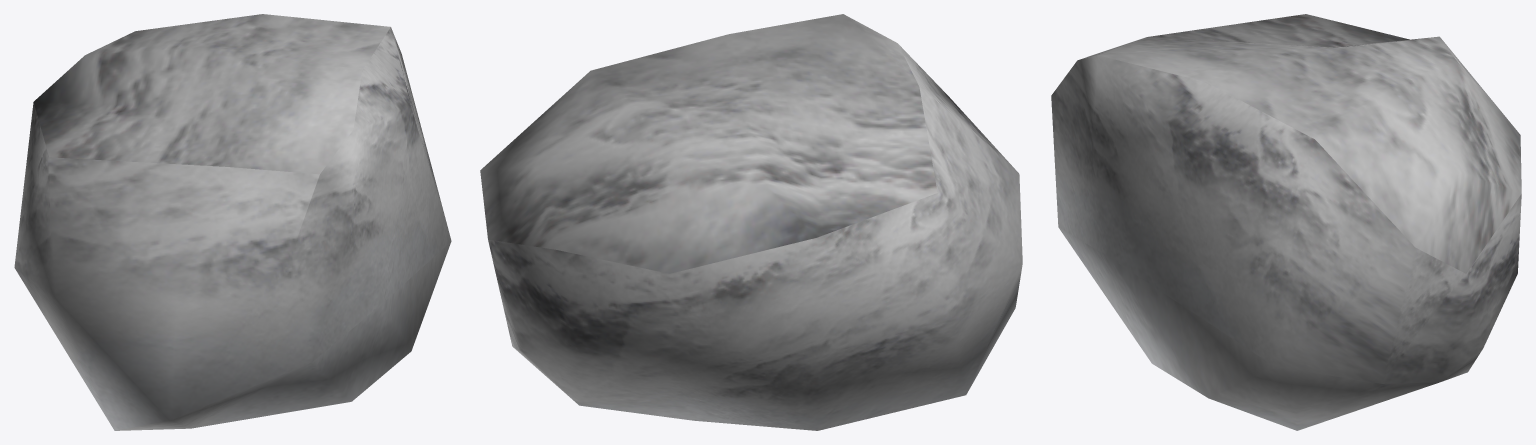
File: snow_d_a07e.fbx
The picture shows the model from 3 angles, left to right: view 1: azimuth 30°, elevation 25°; view 2: azimuth 150°, elevation 25°; view 3: azimuth 270°, elevation 25°; orthographic projection.
Visible parts, largest first — view 1: d_a07e; view 2: d_a07e; view 3: d_a07e.
Part boxes in pixels (x1,y1,x2,y2): d_a07e: [14, 14, 451, 430]; d_a07e: [480, 14, 1022, 430]; d_a07e: [1051, 14, 1521, 430].
Bounding box in the file's own units: 135 × 96.14 × 124.
